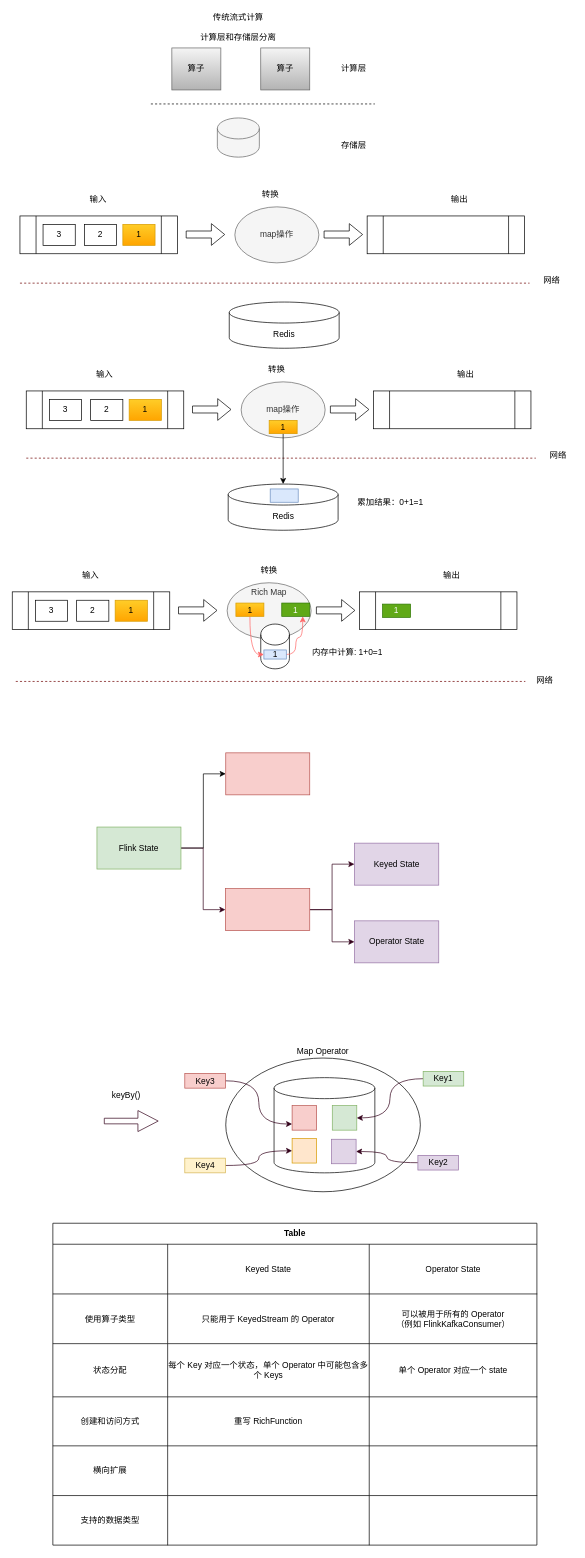
Some shapes in this 585 by 1558 pixel diagram are drawn without their labels. Each missing label, with the centre of its shape:
Managed State （托管状态）: the point at 267,909
Raw State （原生状态）: the point at 267,773
